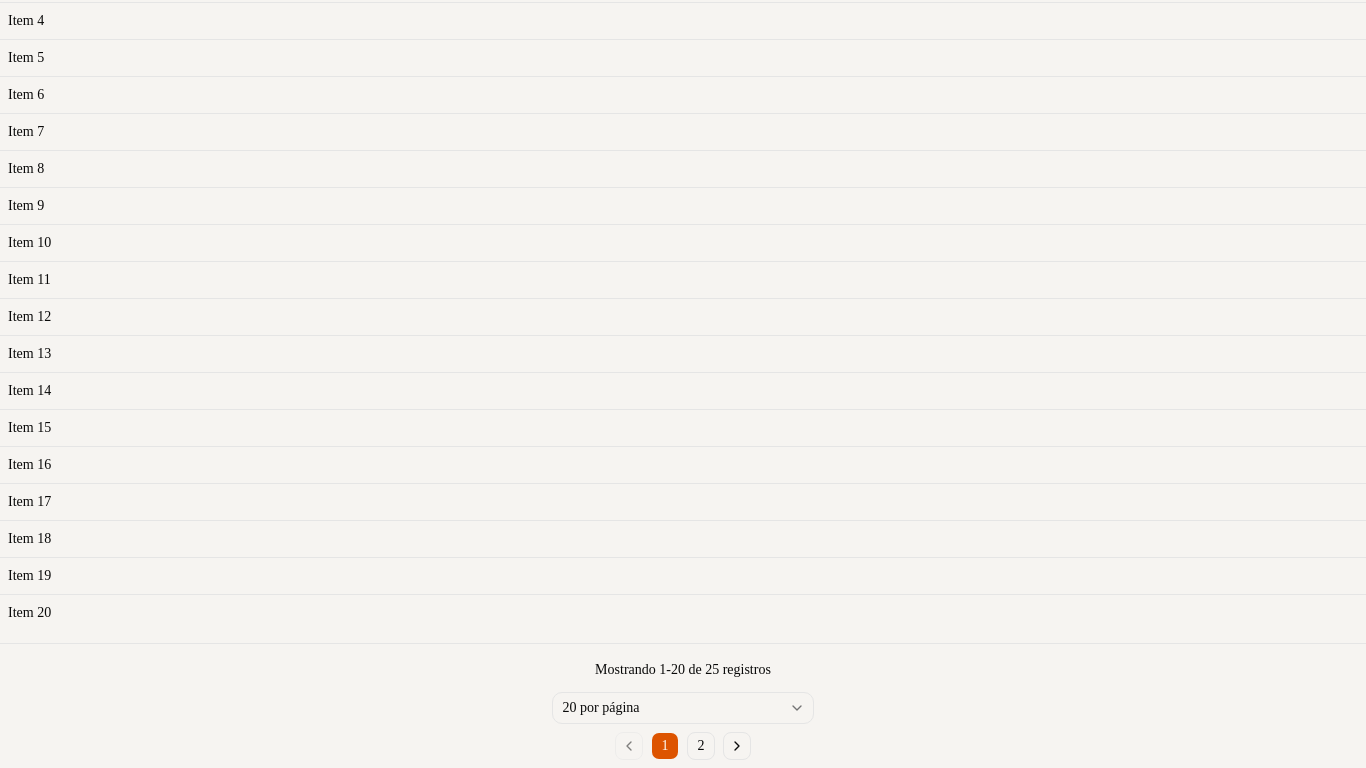
it: DataTable › changing the page-size selector re-slices rows, updates the counter, and resets to page 1
(page scrolled)
Click the button named "Página siguiente" at (737, 746), box [723,732,751,760]
(page scrolled)
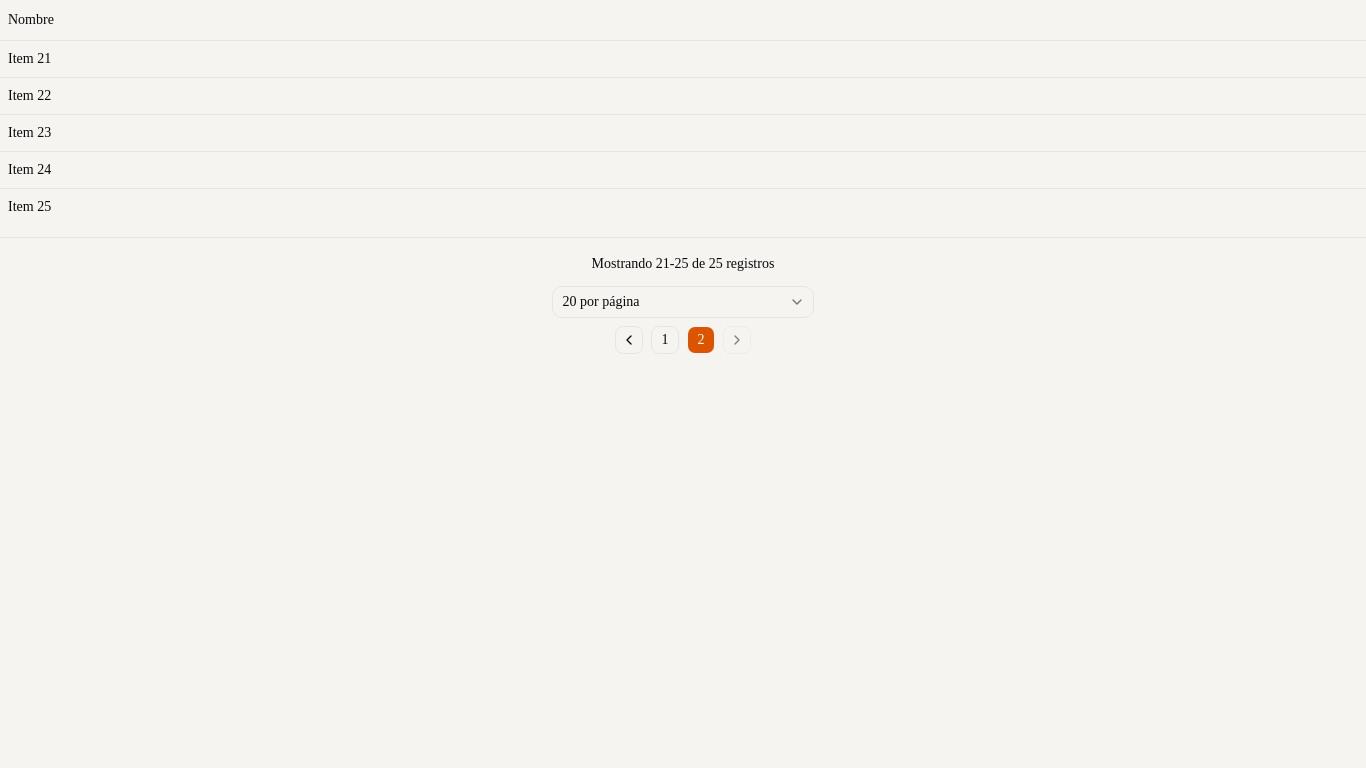
expect the cell "Item 21" is shown: met, box [0,40,1365,77]
Click the dropdown at (601, 301), box [552,286,814,318]
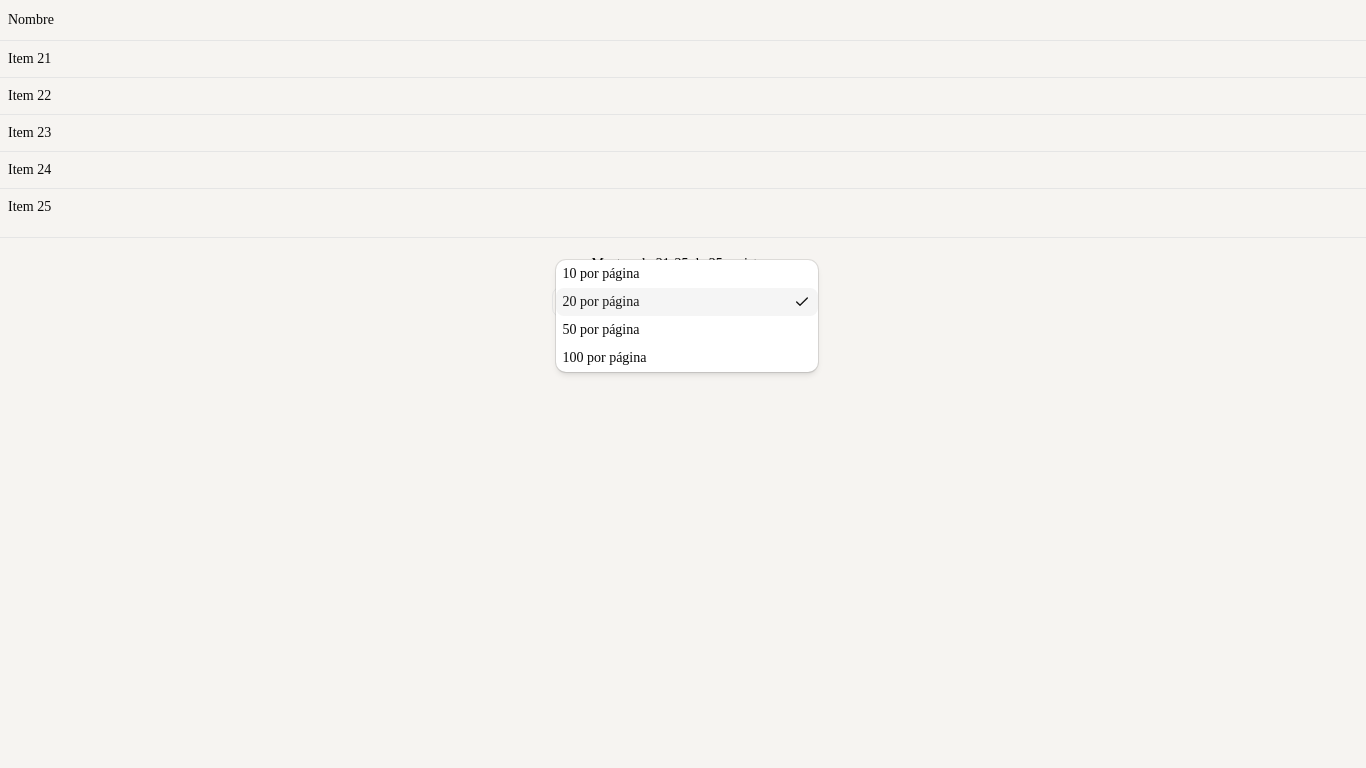
Click the option "10 por página" at (601, 273), box [562,266,640,280]
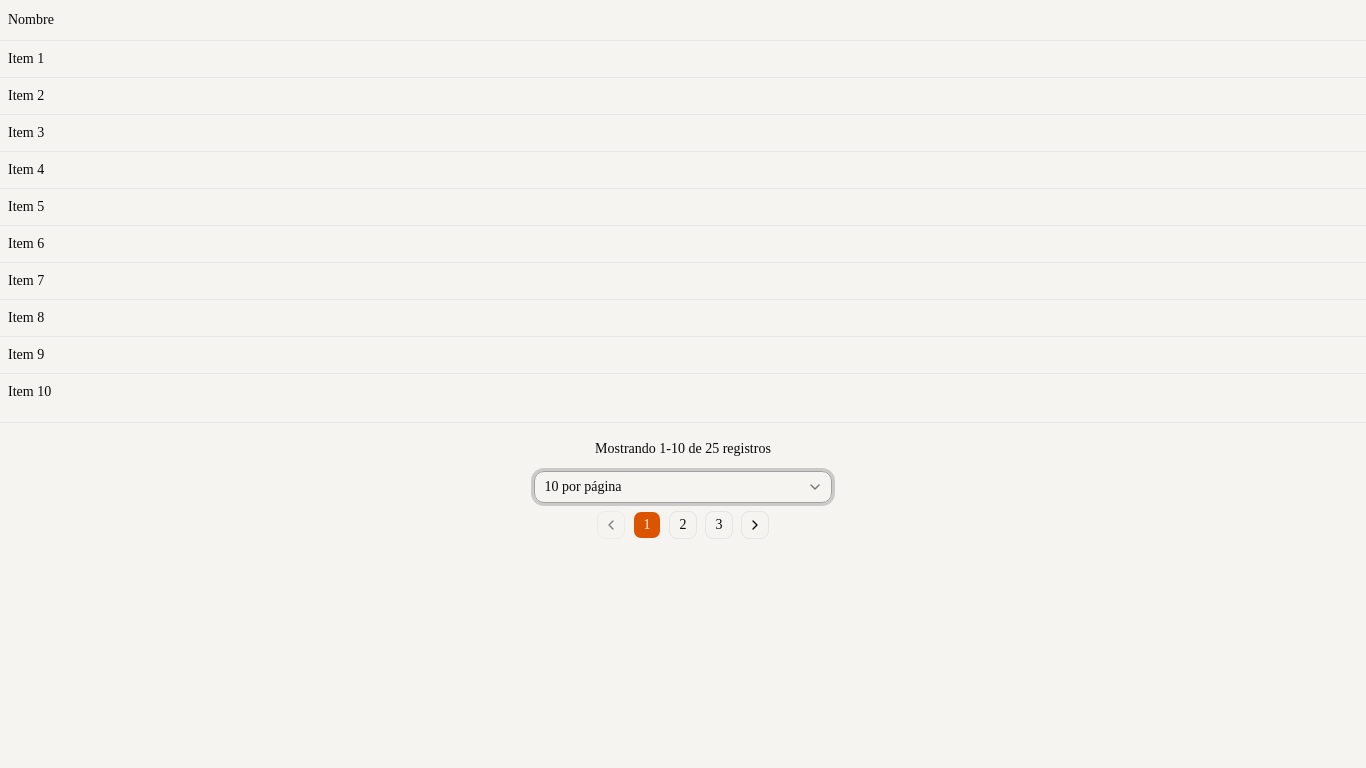
expect the number of rows is 11: met
expect the cell "Item 1" is shown: met, box [0,40,1365,77]
expect the text "Mostrando 1-10 de 25 registros" is shown: met, box [595,438,771,458]
